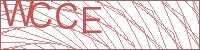C: (55, 2, 79, 31), (29, 1, 52, 30)
E: (80, 5, 105, 35)
W: (1, 1, 35, 29)
